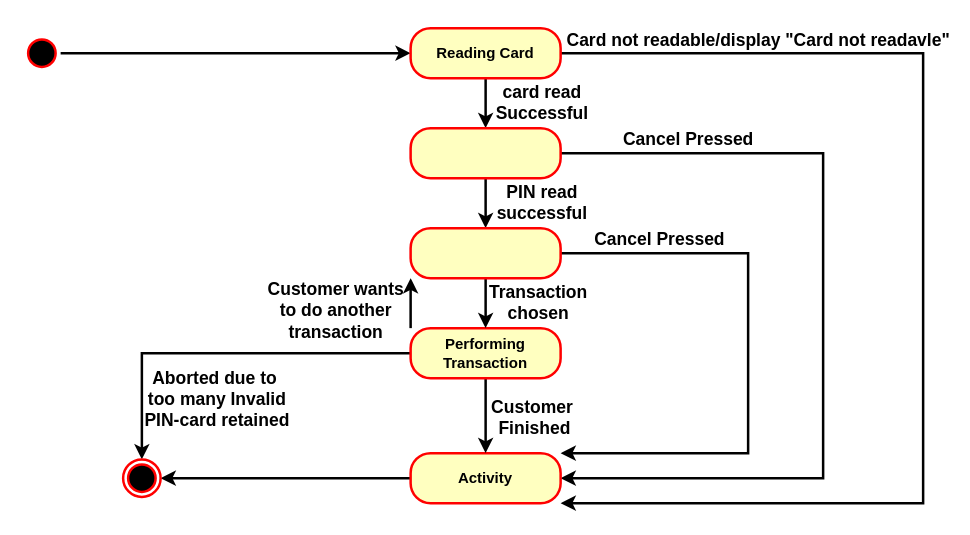
The diagram is 970 pixels wide and 535 high, and some of its shapes have lost their labels. The shapes that lost their labels are listed below. From the top down, each one's centre as x and y in pixels, then its label:
pixel 485 152: Reading PIN
pixel 485 252: Choosing Transaction
